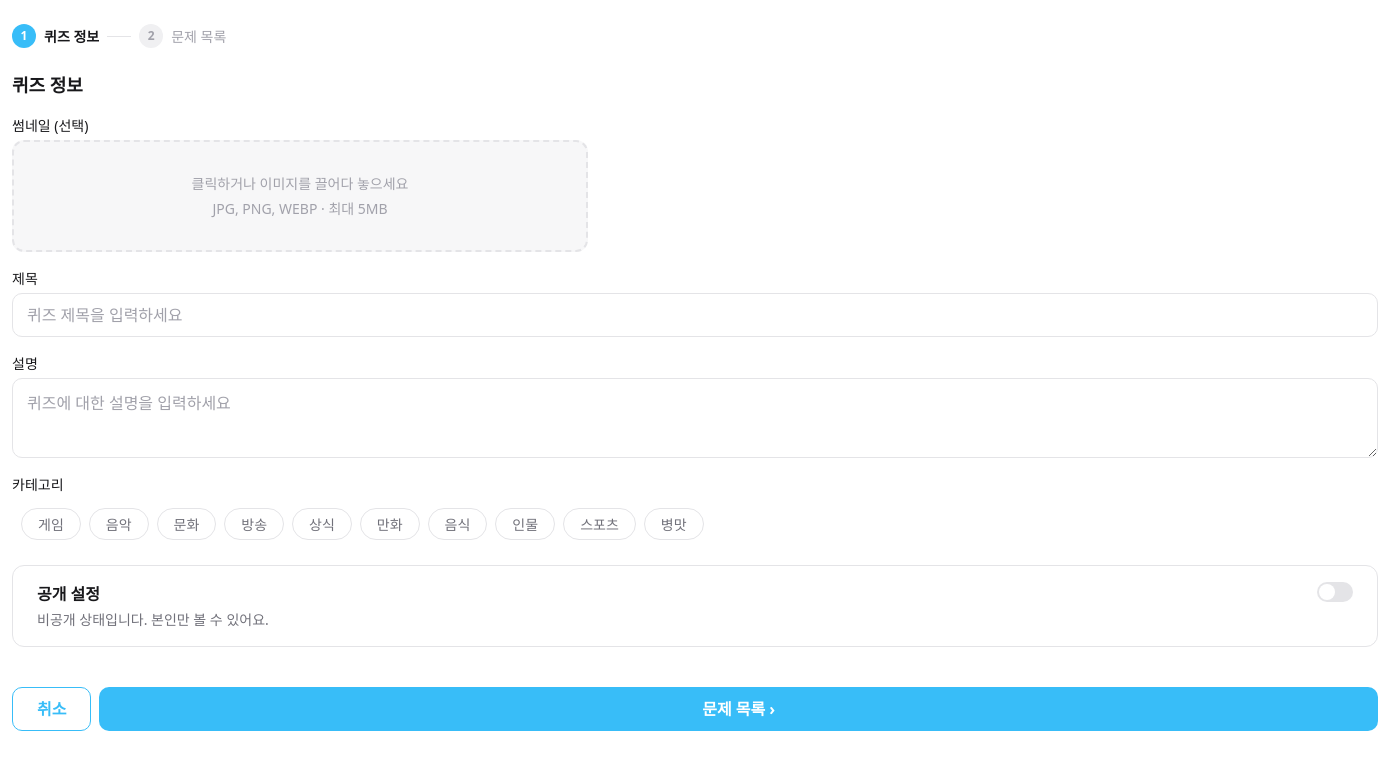
Test: QuizCreatePage › 상태별 UI › error 있을 때 step="questions" 에서 alert 배너 노출
The width and height of the screenshot is (1390, 768).
Type "테스트 제목" into the field with placeholder "퀴즈 제목을 입력하세요" at (695, 315), box 12,293 -> 1378,337
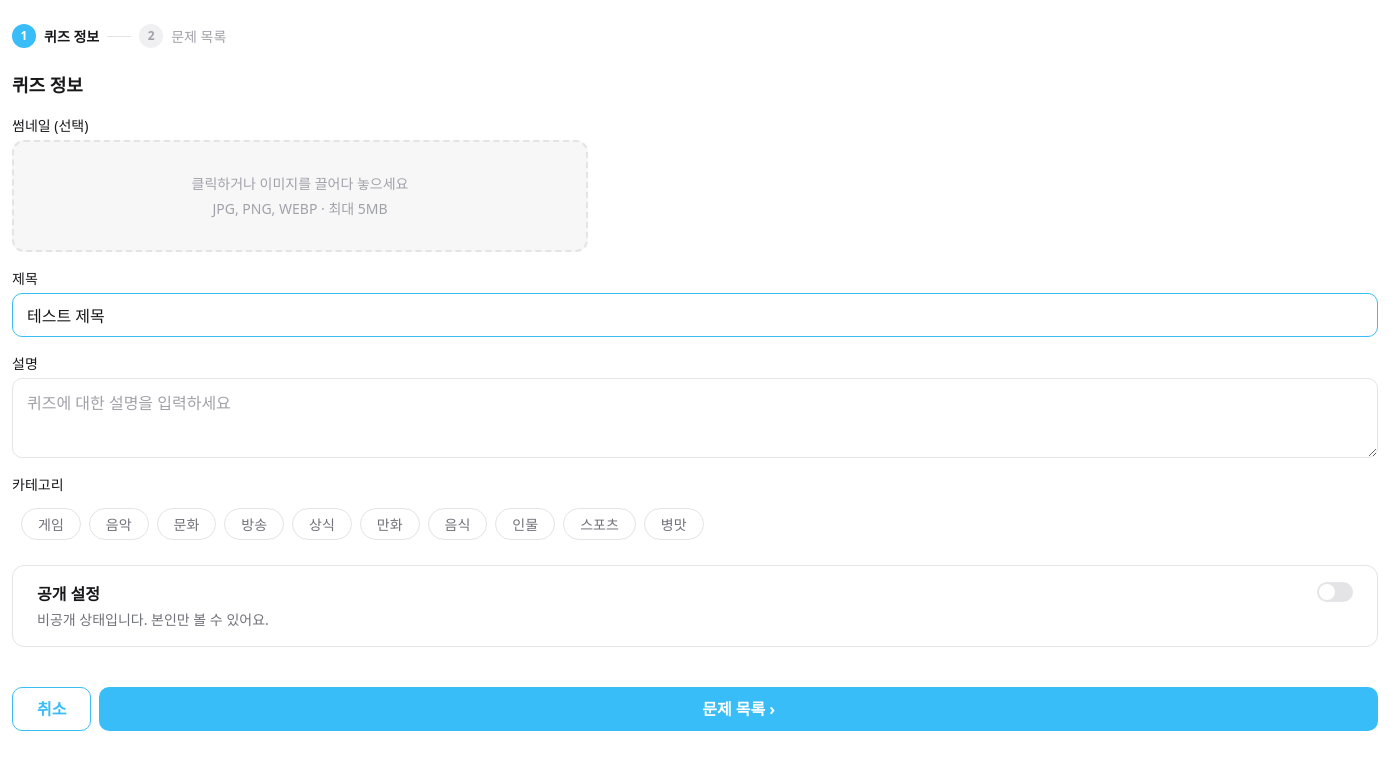
Type "설명" into the text box with placeholder "퀴즈에 대한 설명을 입력하세요" at (695, 418), box 12,378 -> 1378,458
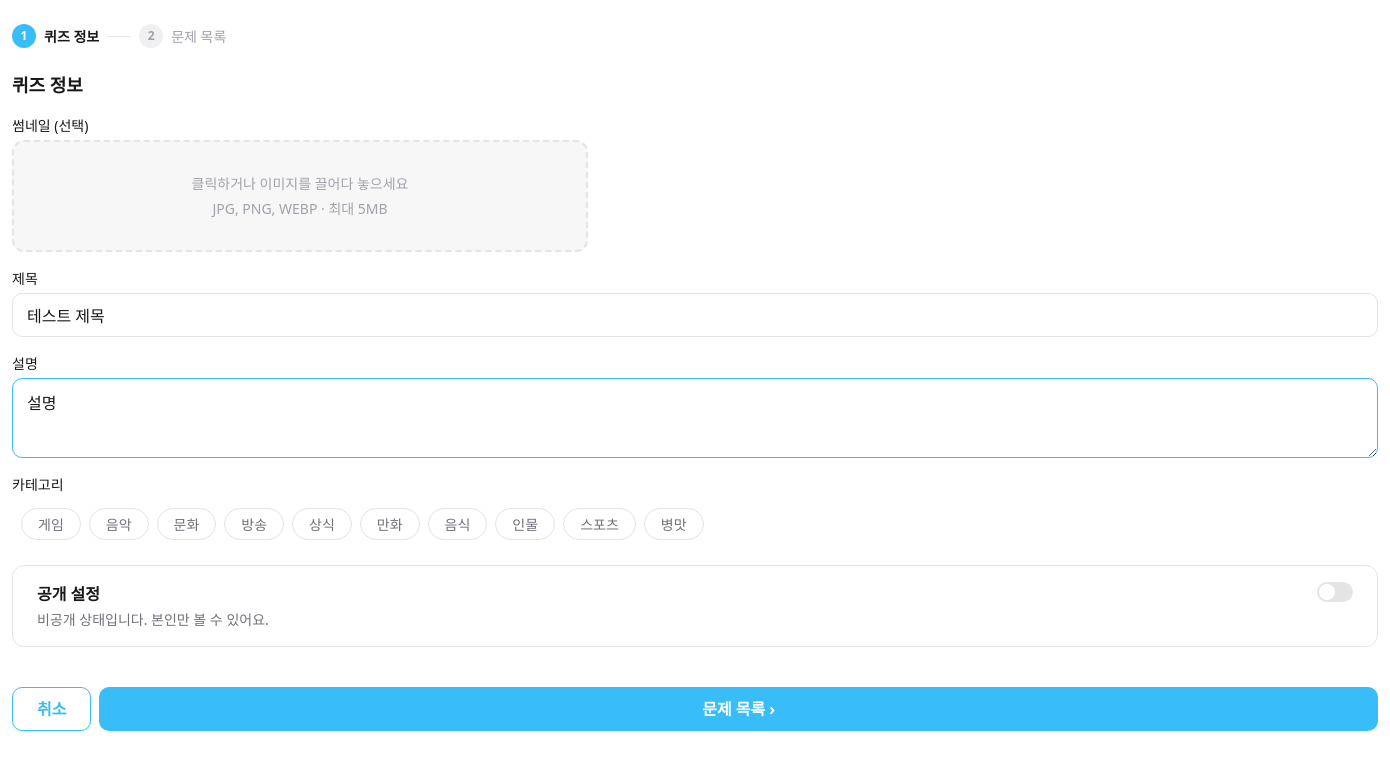
Click the button "게임" at (51, 524), box 21,508 -> 81,540
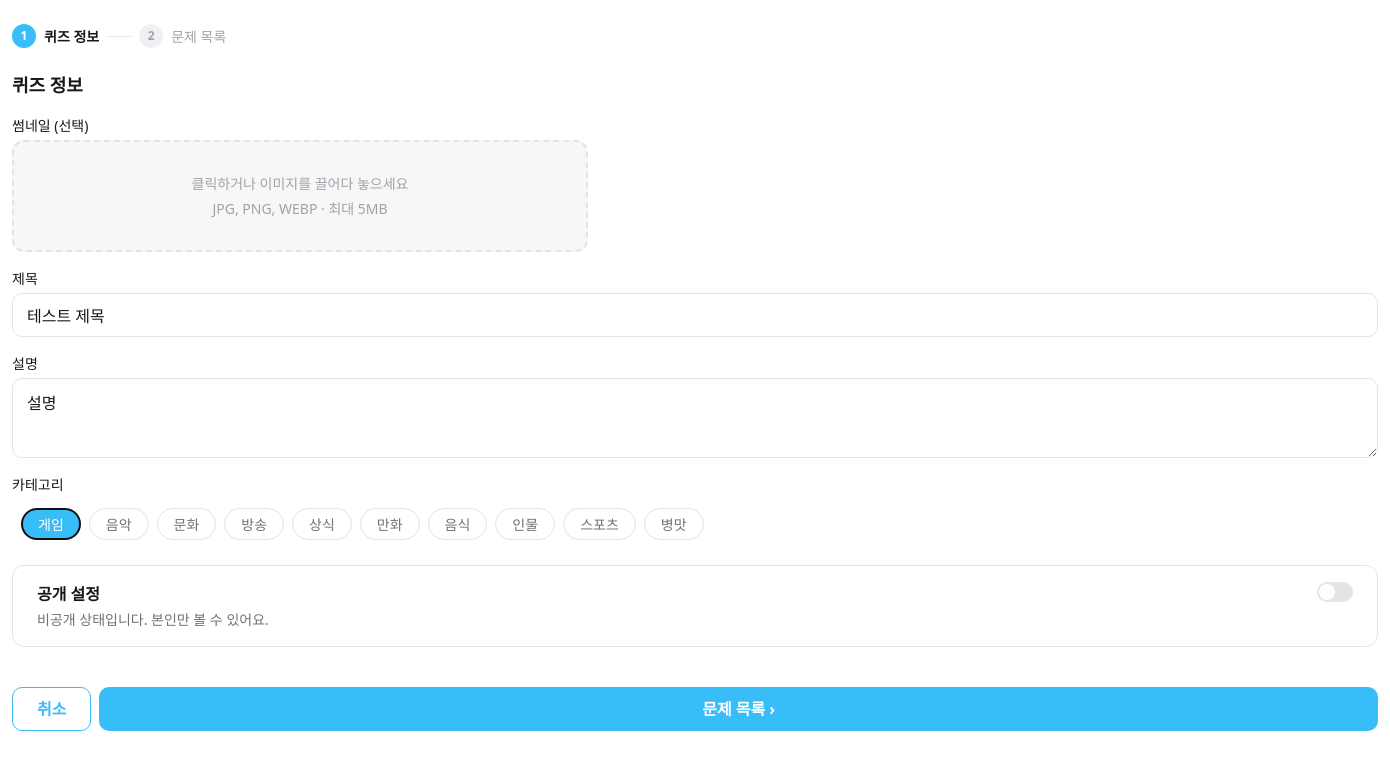
Click the button "문제 목록 ›" at (739, 709), box 100,687 -> 1378,731
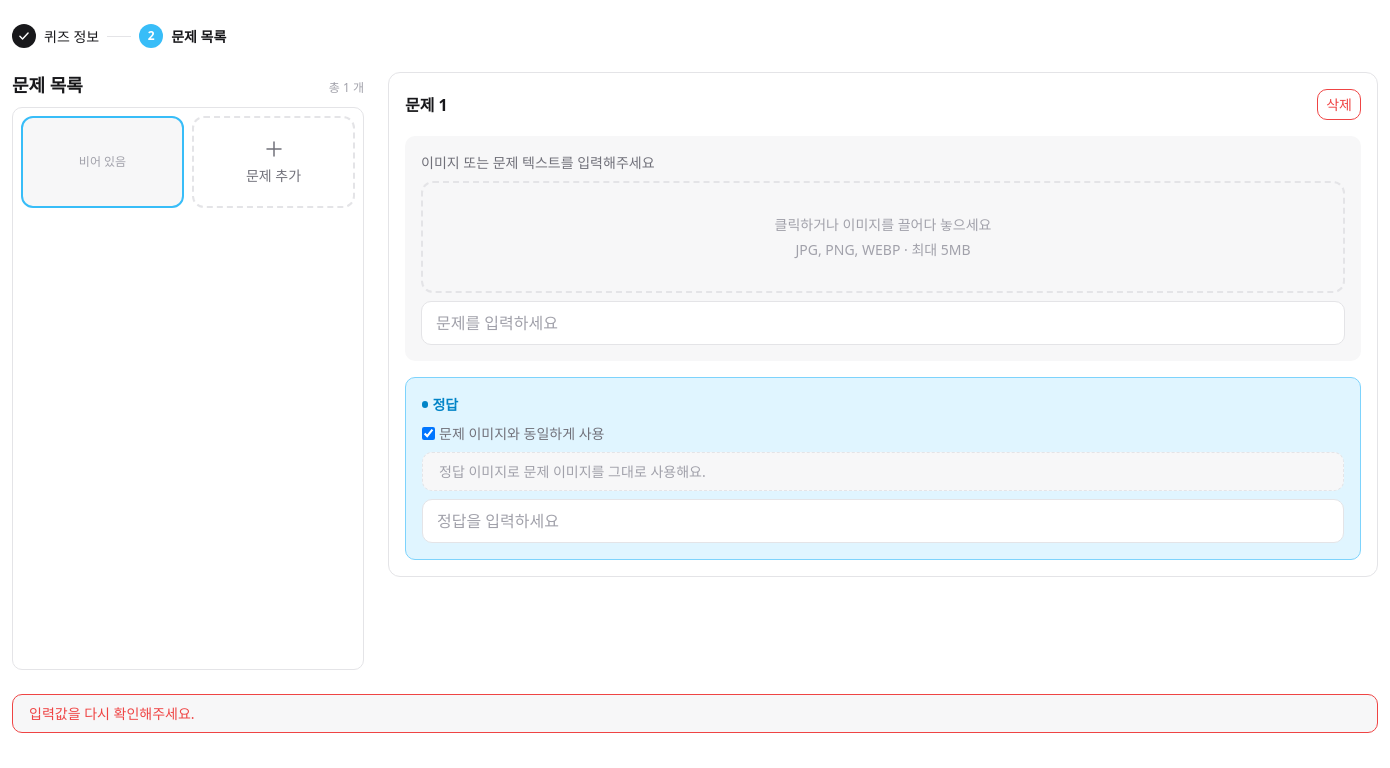
Expected: the message reads "입력값을 다시 확인해주세요.", 29,704 -> 195,723
